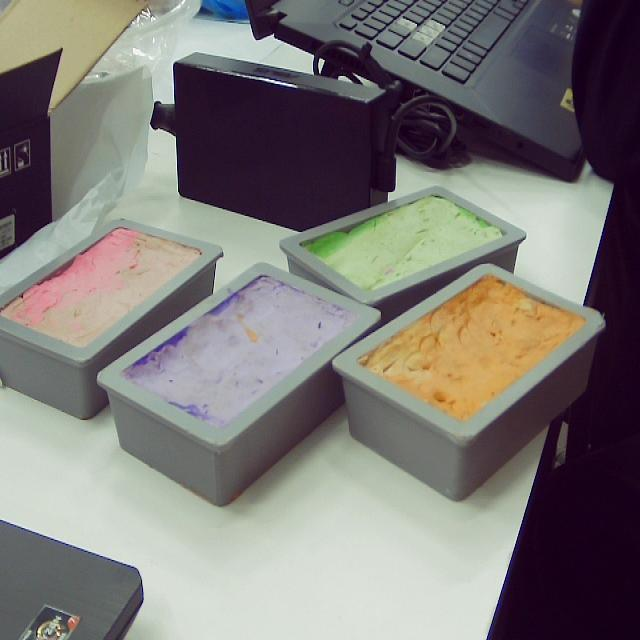block: (97, 260, 378, 505), (329, 262, 602, 503), (0, 215, 225, 421), (280, 184, 526, 331)
